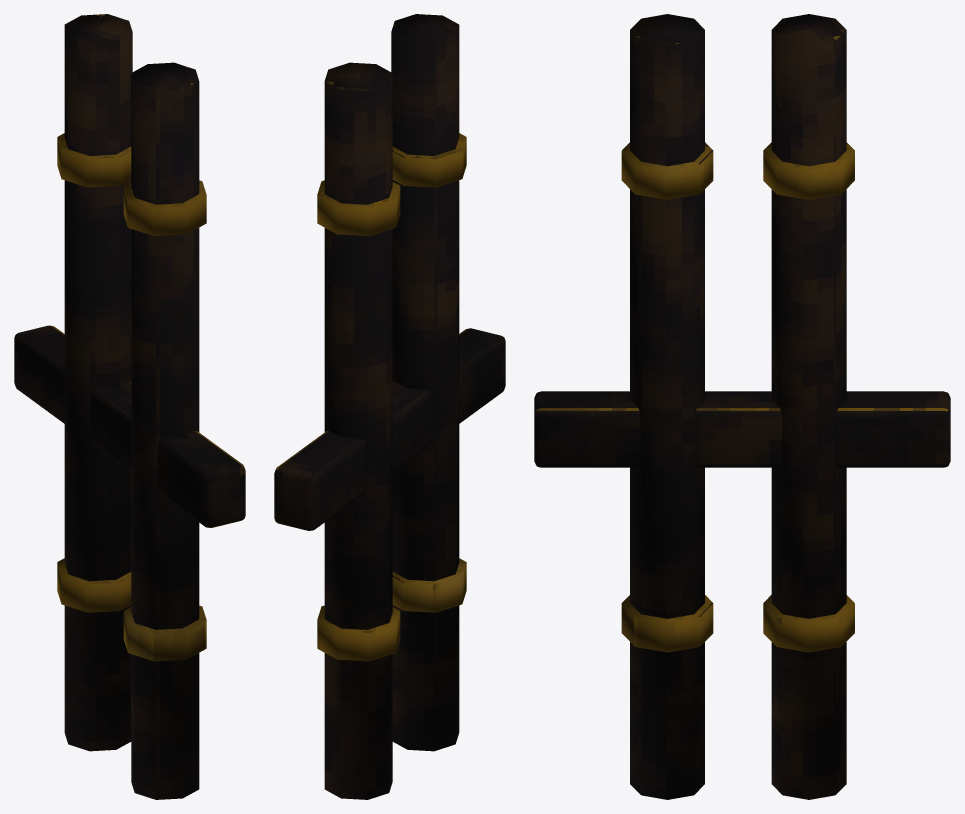
File: circus_bars_side.obj
The picture shows the model from 3 angles, left to right: view 1: azimuth 30°, elevation 25°; view 2: azimuth 150°, elevation 25°; view 3: azimuth 270°, elevation 25°; orthographic projection. The views are drawn at different scales.
Parts seen in each view (by area): view 1: part0, part1; view 2: part0, part1; view 3: part0, part1.
Boxes of the visible parts, box(x1,y1,x2,y2) form: part0: box(14, 14, 245, 799); part1: box(57, 133, 206, 661); part0: box(274, 14, 505, 799); part1: box(317, 133, 466, 661); part0: box(534, 14, 950, 799); part1: box(621, 142, 854, 652).
Size of the model in its own units: 0.11 by 1 by 0.5.
